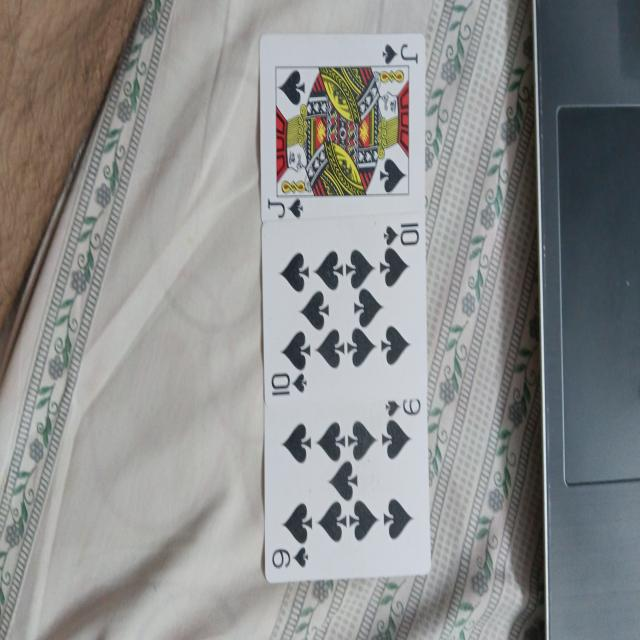10S: (263, 214, 427, 400)
9S: (267, 402, 434, 584)
JS: (262, 32, 426, 222)
